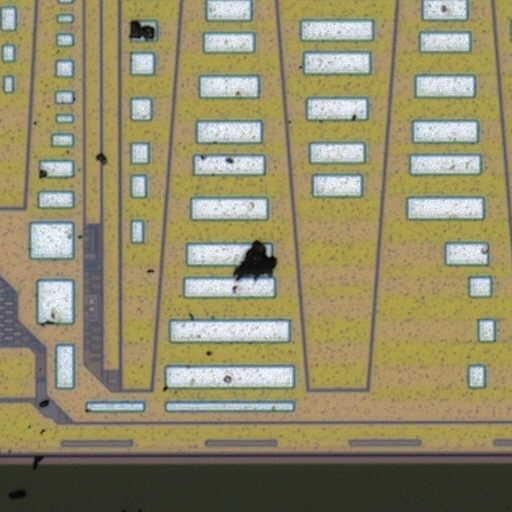PO CONTAMINATION: (3, 1, 506, 508)
